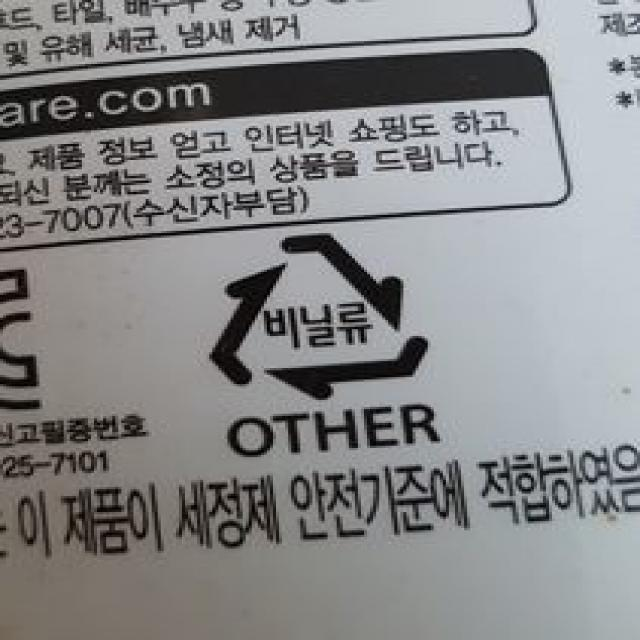Vinyl: (201, 227, 441, 406)
